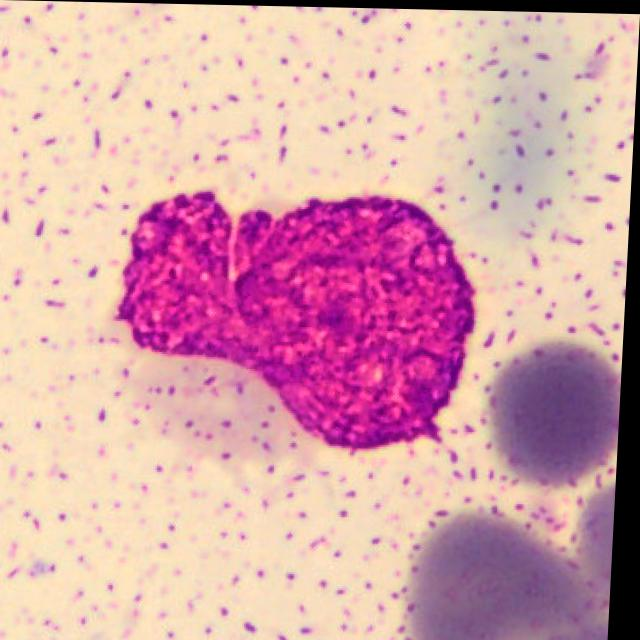Restos celulares: (119, 187, 480, 447)
